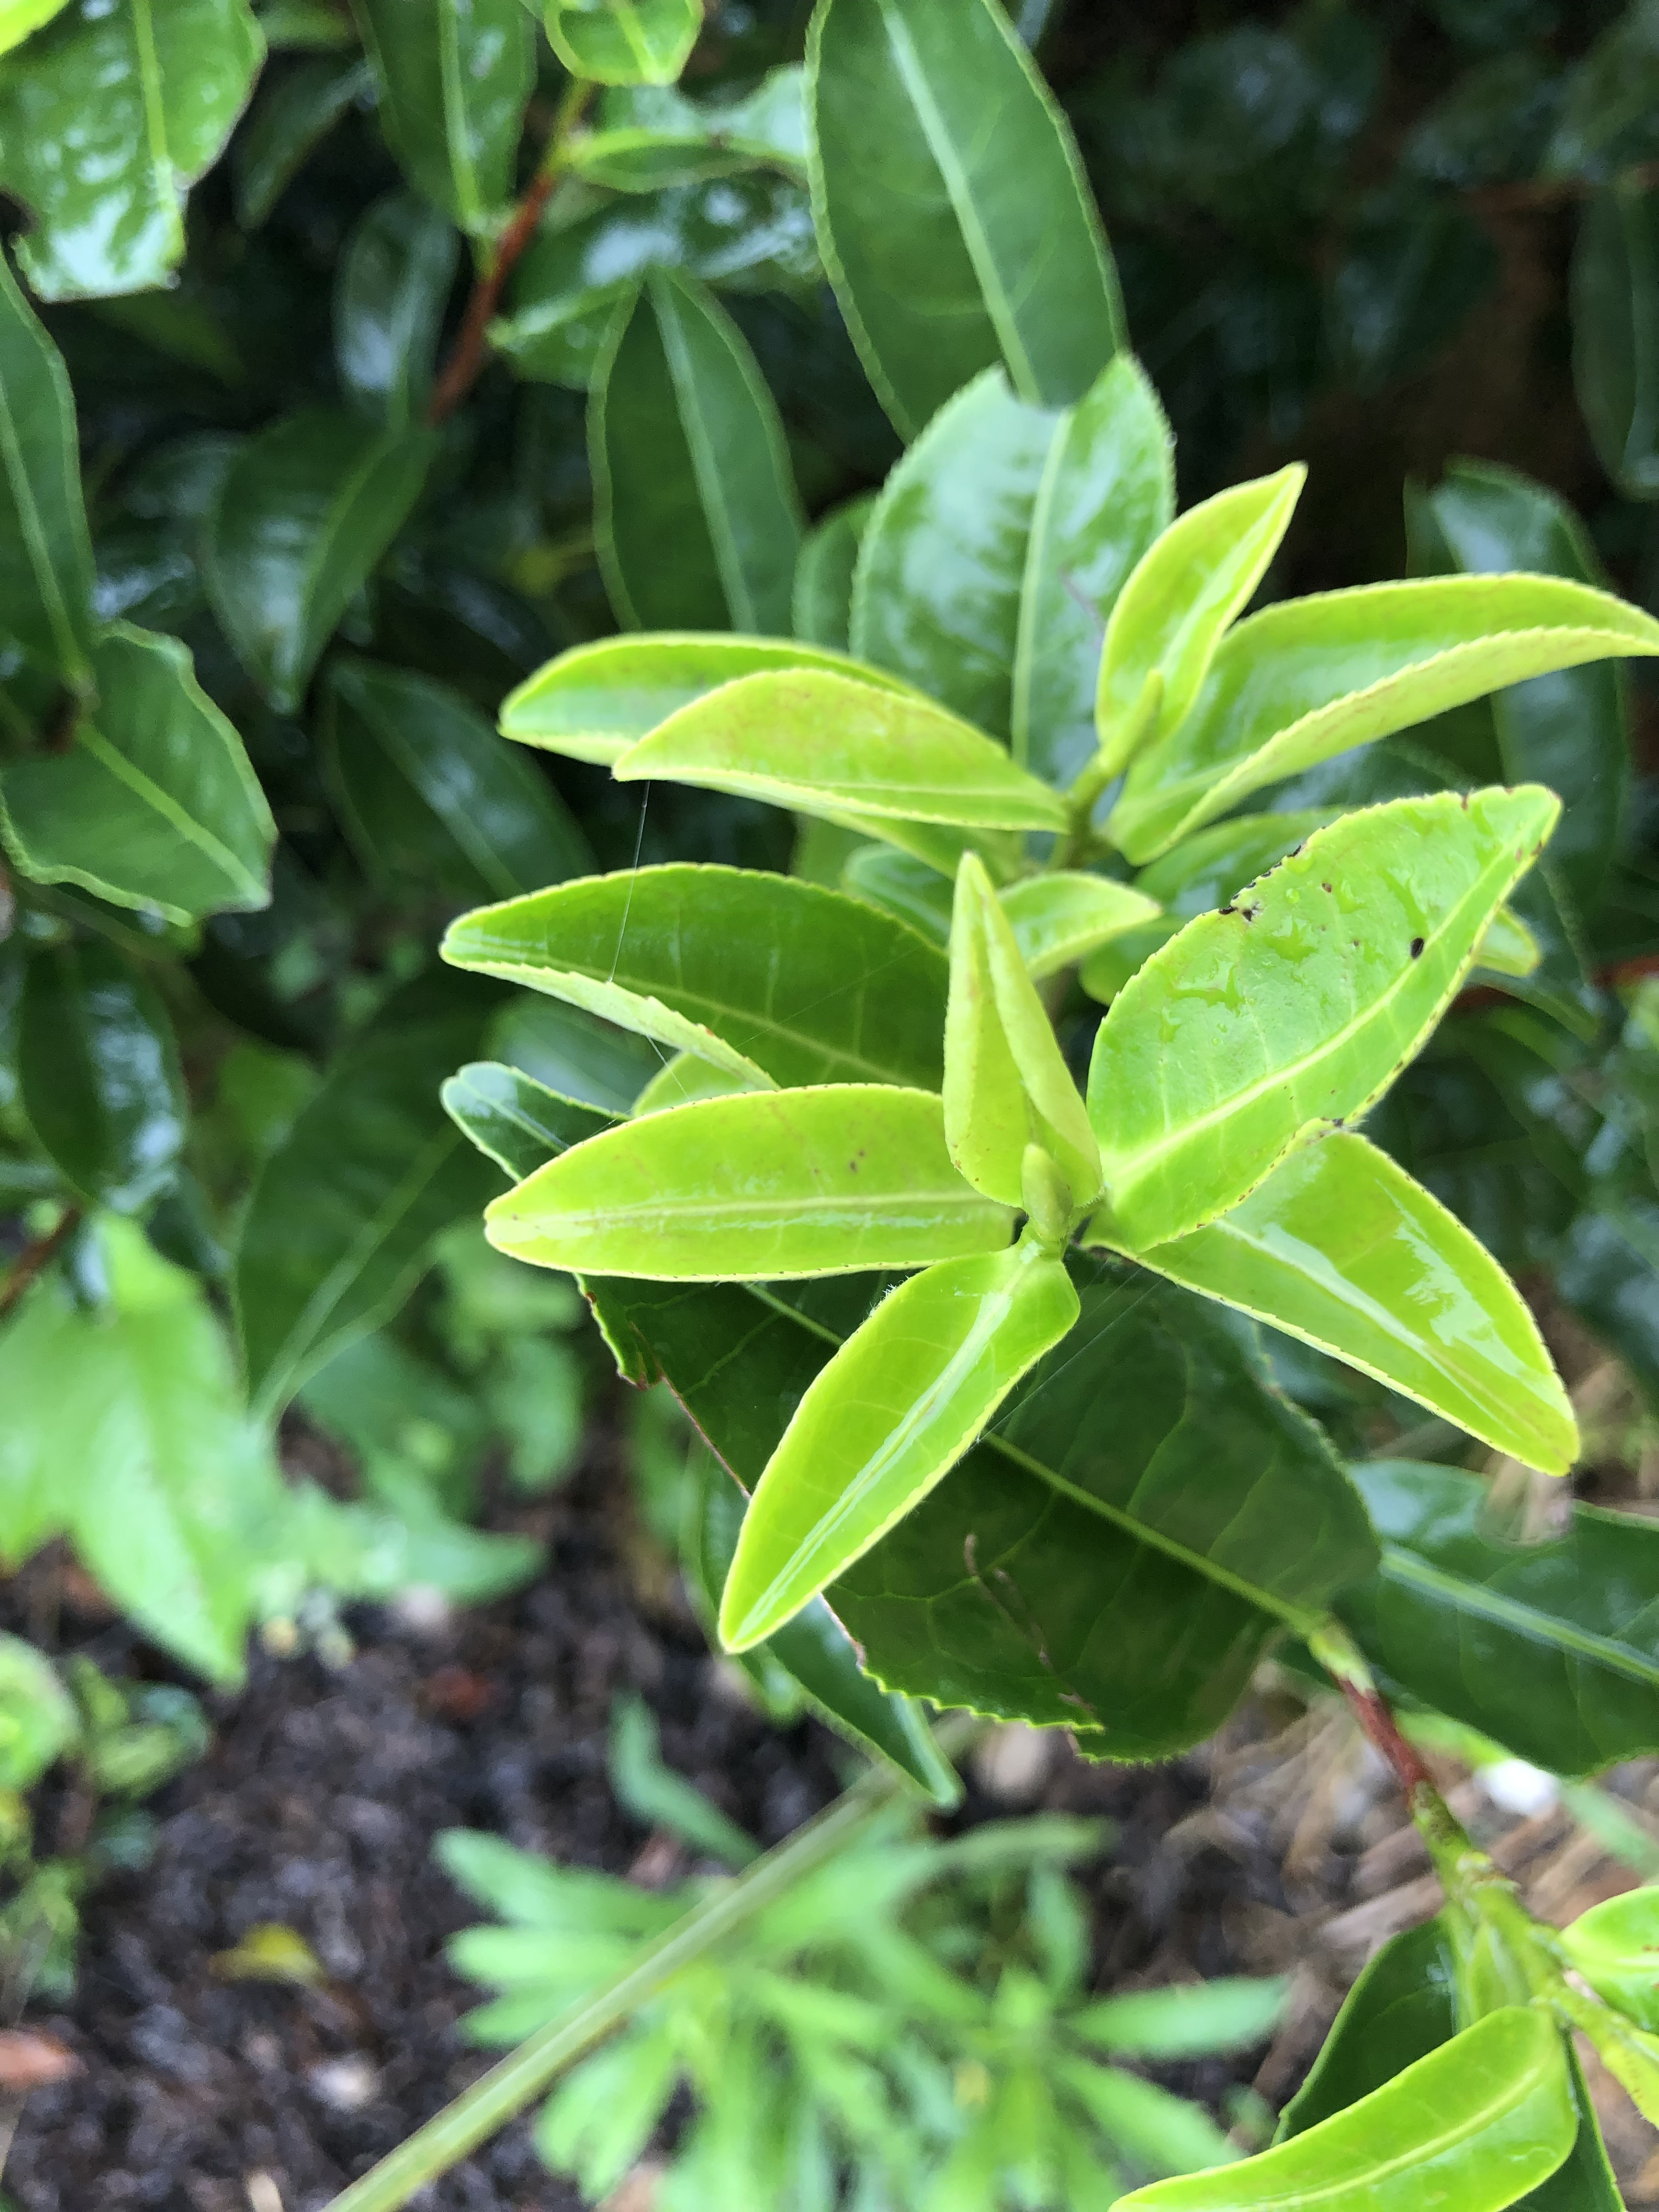formosa: (580, 660, 1063, 852)
fungi_early: (484, 1087, 1011, 1298)
thrips: (1079, 756, 1563, 1242)
